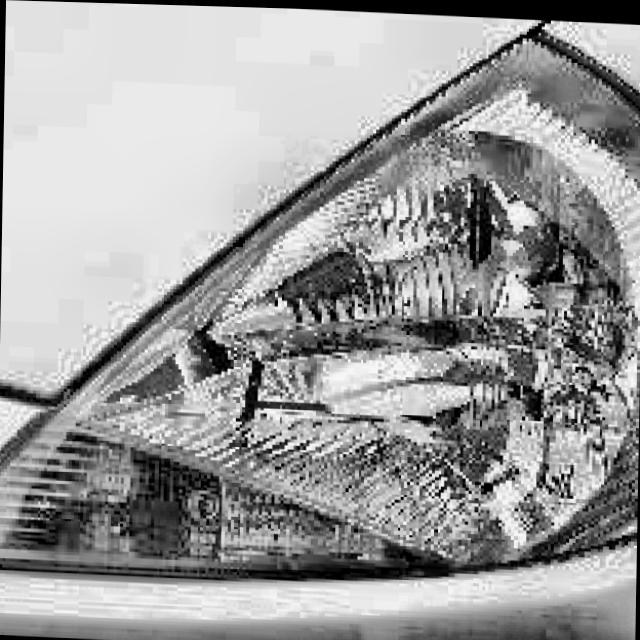head_lamp: (390, 78, 640, 553), (194, 239, 392, 578), (56, 366, 185, 570)
